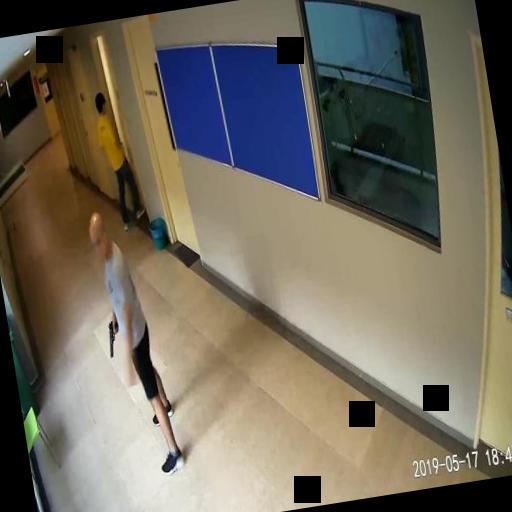Handgun: (104, 318, 120, 355)
